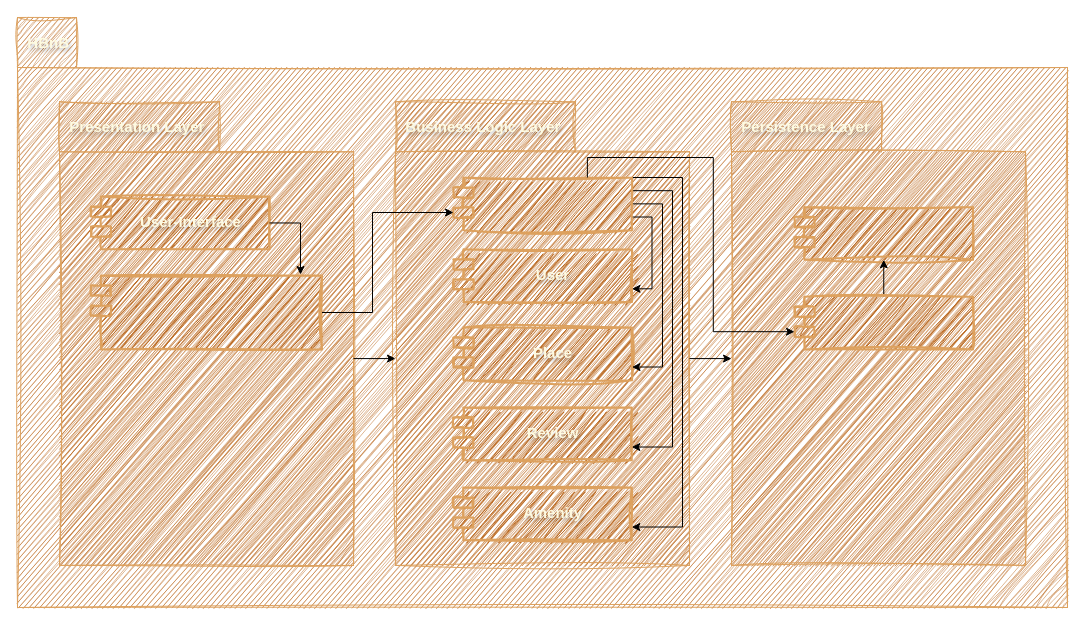
The diagram is 1085 pixels wide and 625 high, and some of its shapes have lost their labels. Each missing label, with the centre of its shape:
"Application-Programming Interface" goes at (206,312).
"Database" goes at (883,233).
"HBnBFacade" goes at (542,203).
"Repository" goes at (883,322).
